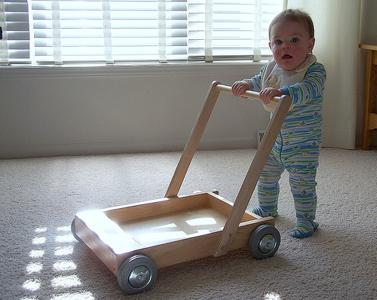person: (233, 9, 328, 241)
